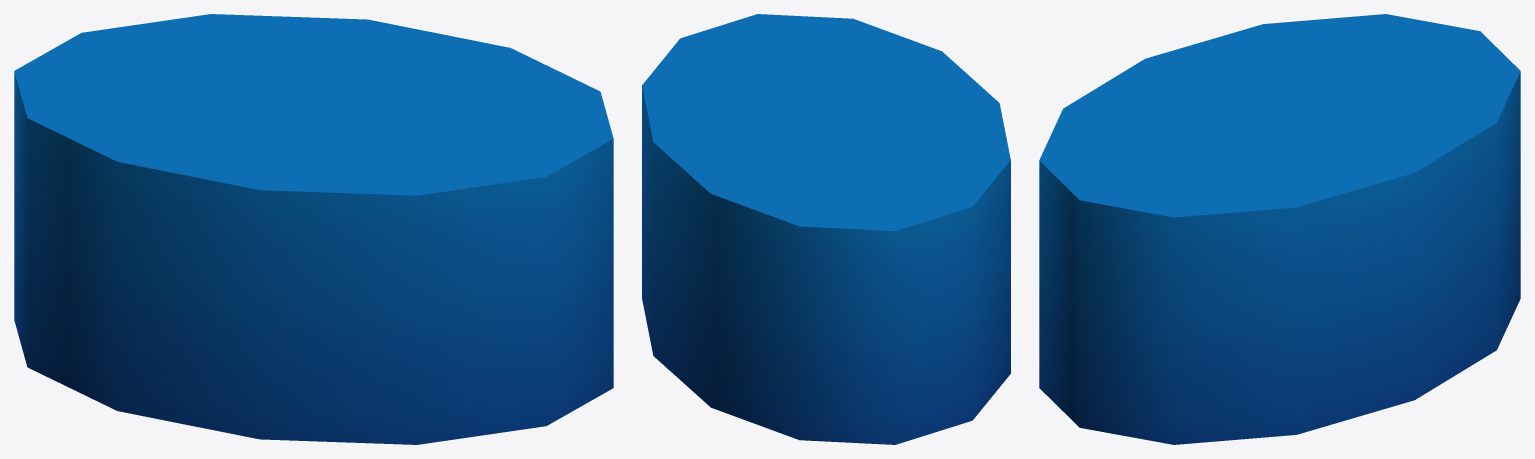
File: logicCube_oval.fbx
3 renders of one model, left to right at view 1: azimuth 30°, elevation 25°; view 2: azimuth 150°, elevation 25°; view 3: azimuth 270°, elevation 25°, orthographic. The views are drawn at different scales.
Parts seen in each view (by area): view 1: logicCube_oval; view 2: logicCube_oval; view 3: logicCube_oval.
Boxes of the visible parts, x1,y1,x2,y2 form: logicCube_oval: (14, 14, 613, 444); logicCube_oval: (642, 14, 1010, 444); logicCube_oval: (1039, 14, 1520, 444).
Bounding box in the file's own units: 5.94 × 3.1 × 5.94.
